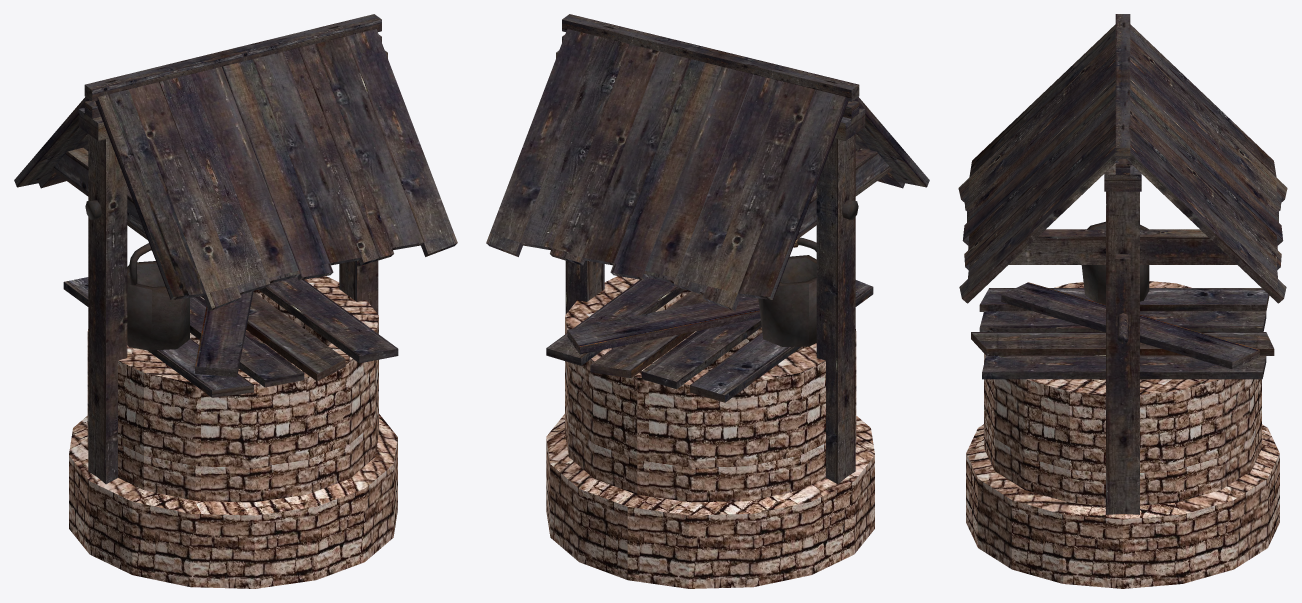
Rendered from building-well.glb.
3 renders of one model, left to right at view 1: azimuth 30°, elevation 25°; view 2: azimuth 150°, elevation 25°; view 3: azimuth 270°, elevation 25°, orthographic. The views are drawn at different scales.
Visible parts, largest first — view 1: Well; view 2: Well; view 3: Well.
Boxes of the visible parts, box(x1,y1,x2,y2) form: Well: box(14, 14, 457, 588); Well: box(486, 14, 929, 588); Well: box(958, 14, 1287, 588).
Bounding box in the file's own units: 1.89 × 2.46 × 1.66.
5 materials, 4 textured.
